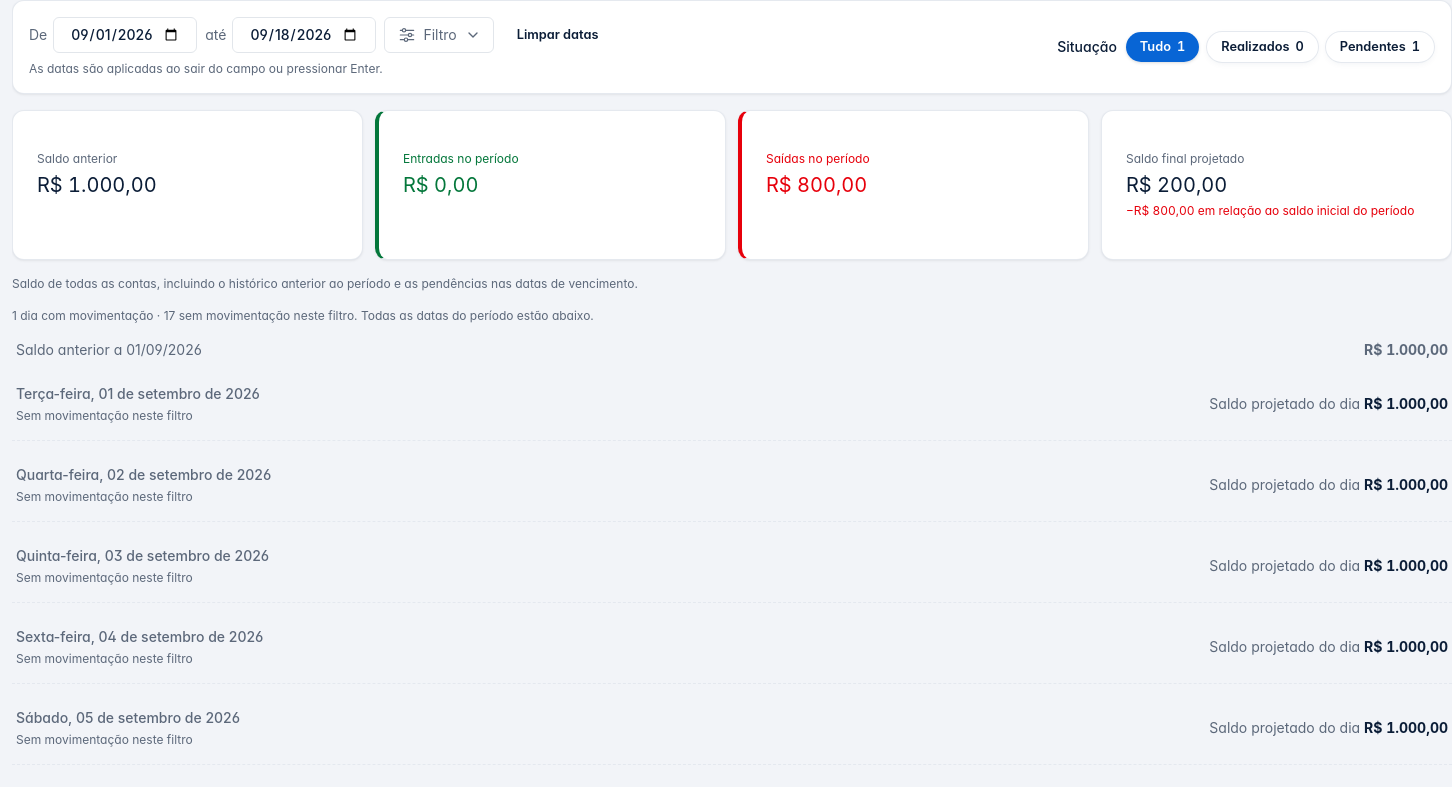
mantém todas as datas do filtro e distingue dias com e sem movimentação
Type "2026-09-09" into the date field labelled "De" at (125,35), box [53, 17, 197, 53]
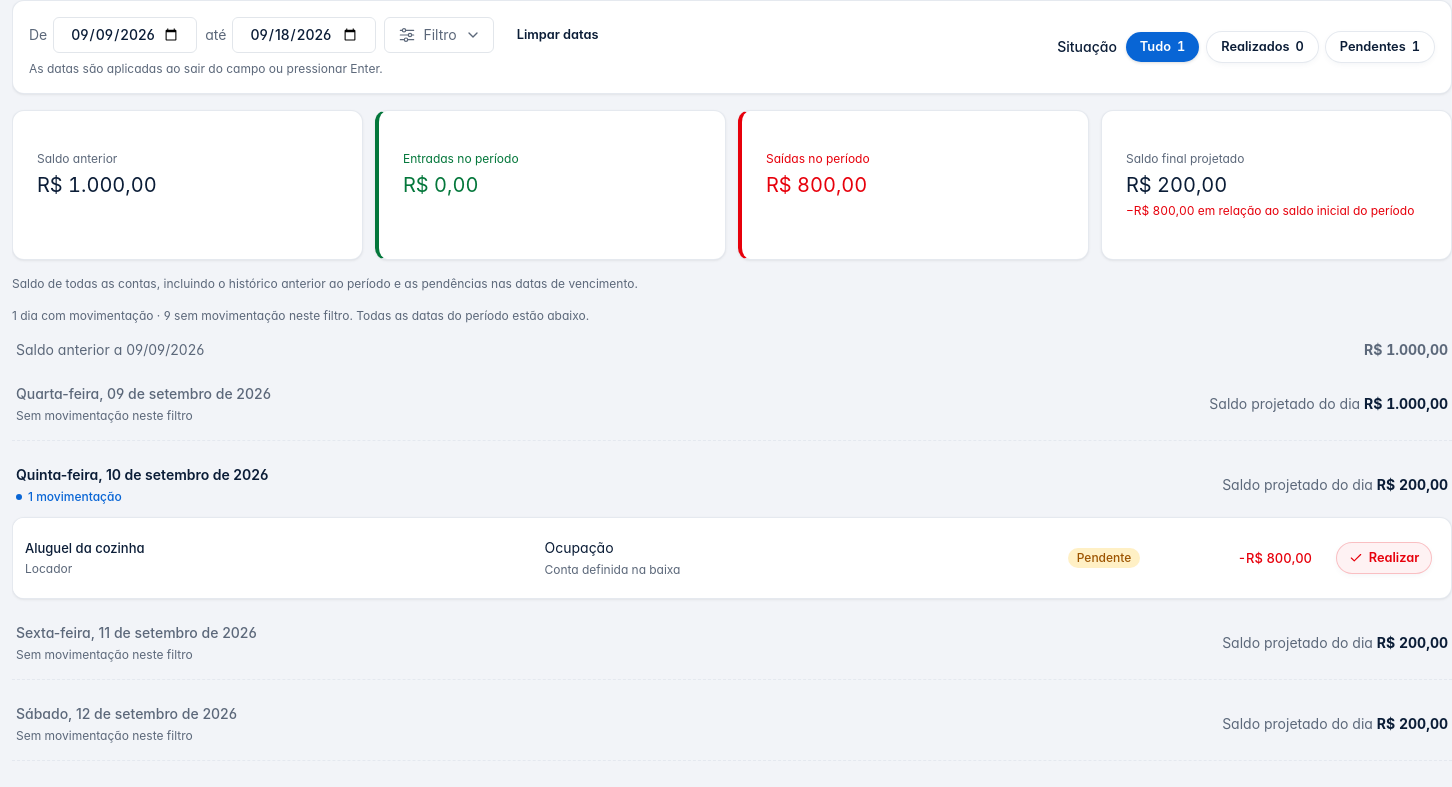
Type "2026-09-11" into the date field labelled "até" at (304,35), box [232, 17, 376, 53]
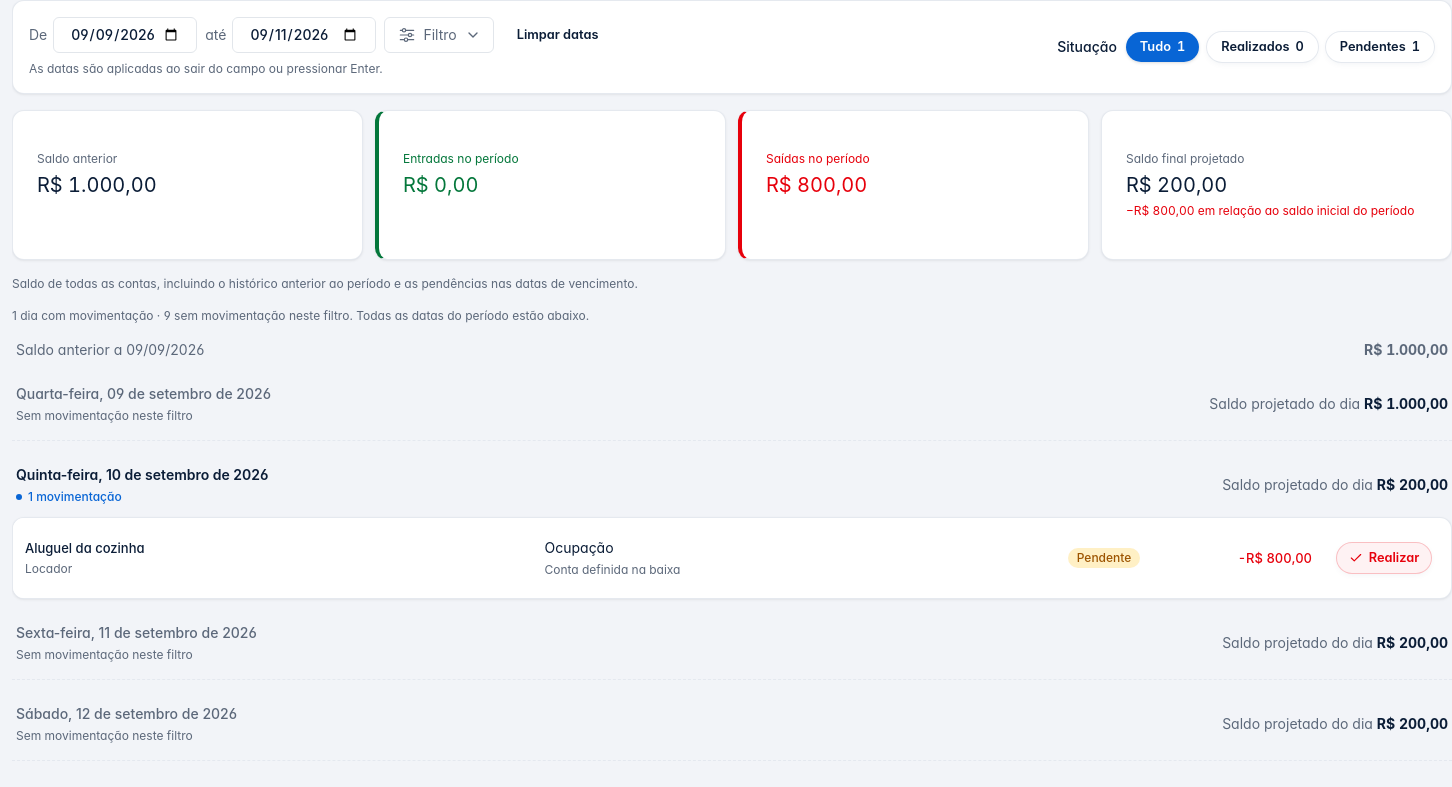
Leave the date field labelled "até", box [232, 17, 376, 53]
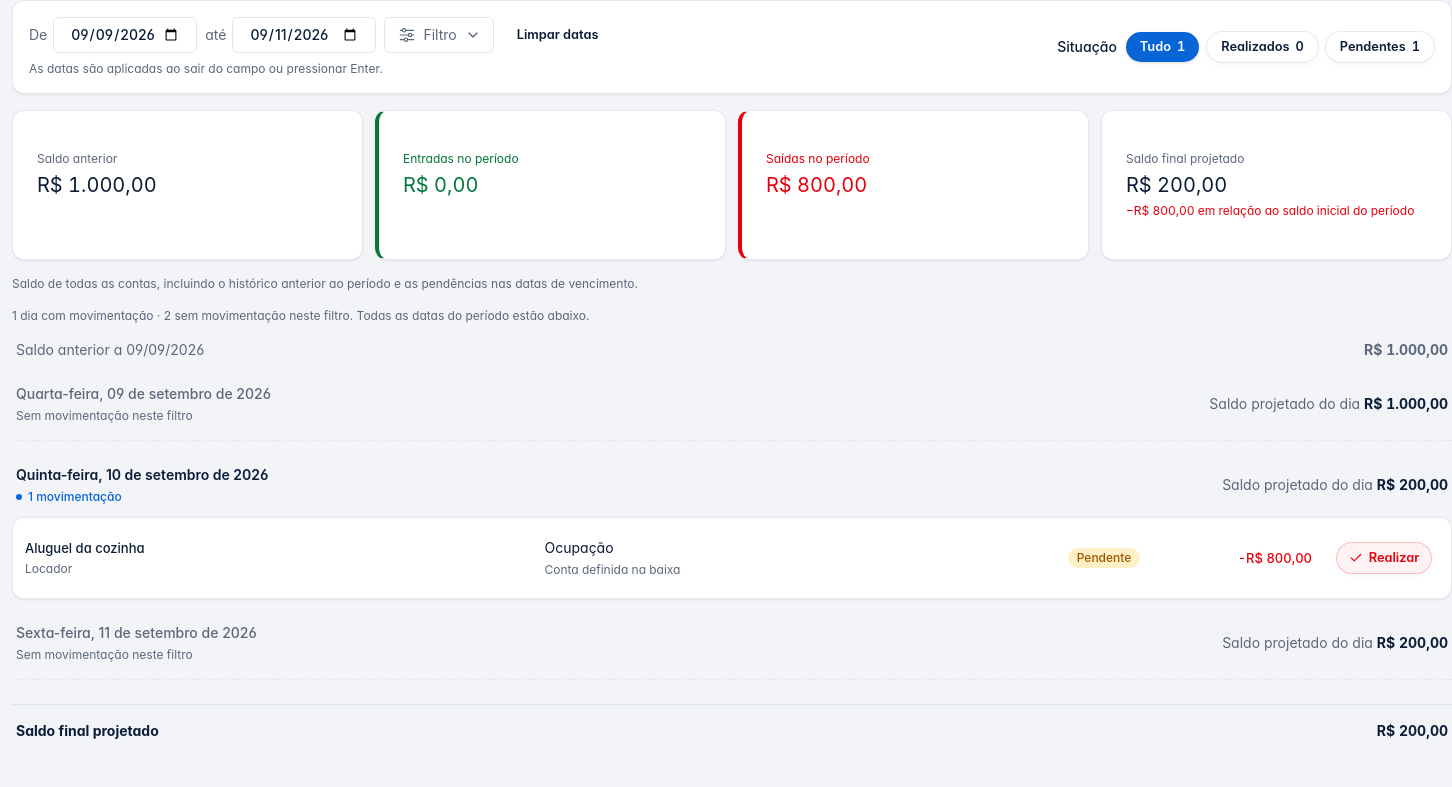
expect the text "Sem movimentação neste filtro" below "quarta-feira, 09 de setembro de 2026" is shown: met, box [16, 408, 193, 423]
expect the number of elements named "Movimentações de" is 3: met, box [12, 384, 1451, 441]; [12, 465, 1451, 599]; [12, 623, 1451, 680]
Click the button "Realizados 0" at (1263,47), box [1206, 31, 1319, 63]
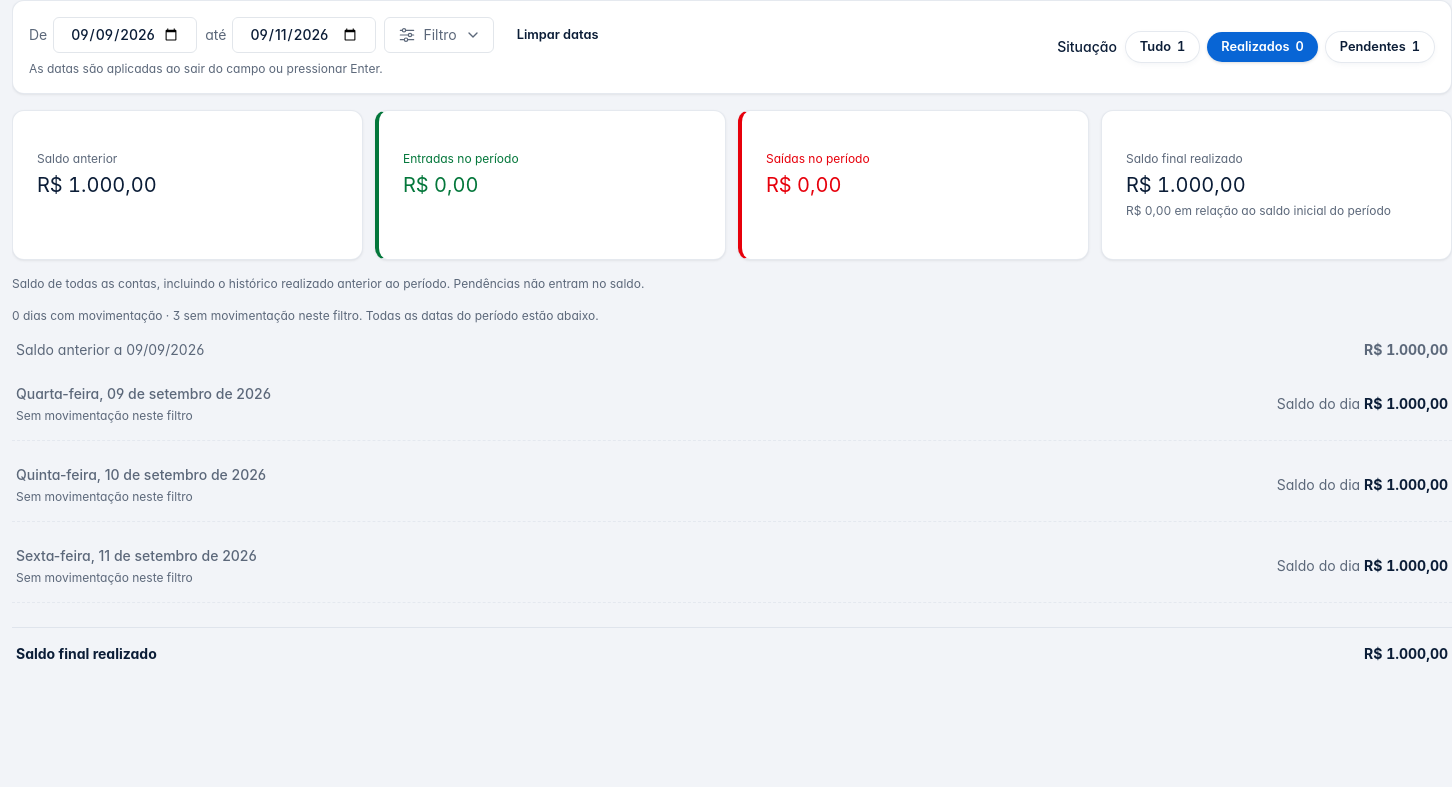
expect the number of elements named "Movimentações de" is 3: met, box [12, 384, 1451, 441]; [12, 465, 1451, 522]; [12, 546, 1451, 603]
expect the text "Sem movimentação neste filtro" is shown 3 times: met, box [16, 408, 193, 423]; [16, 489, 193, 504]; [16, 570, 193, 585]
